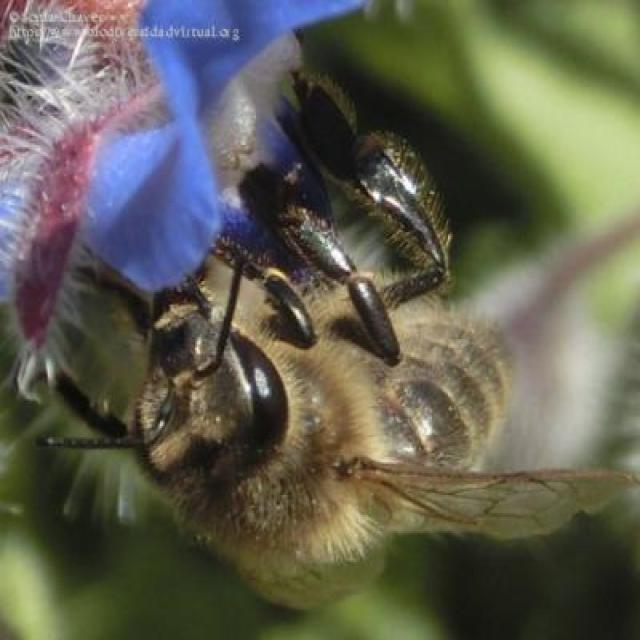antennae: (36, 381, 180, 452), (198, 248, 250, 379)
body: (125, 279, 515, 573)
insect: (23, 63, 638, 613)
legs: (289, 66, 454, 314), (237, 163, 407, 365), (210, 236, 324, 350), (53, 368, 133, 441), (78, 266, 149, 345)
mouthpart: (143, 285, 218, 362)
wings: (344, 453, 639, 544), (200, 532, 388, 611)
